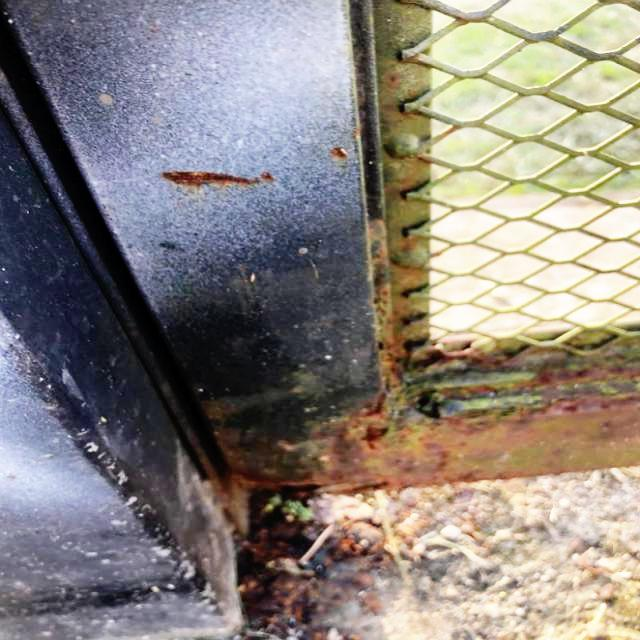Corrosion: (227, 221, 640, 504), (155, 167, 275, 191), (331, 145, 349, 161)
